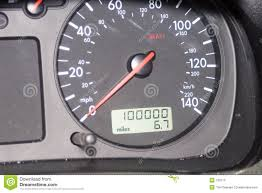Digital_Meter: (107, 110, 180, 132)
